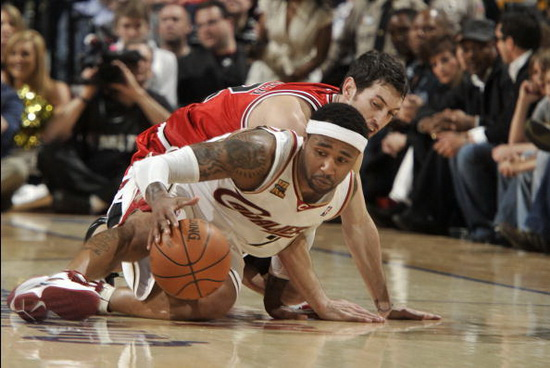10+: (1, 1, 550, 334)
down: (2, 92, 448, 338), (79, 45, 415, 322)
